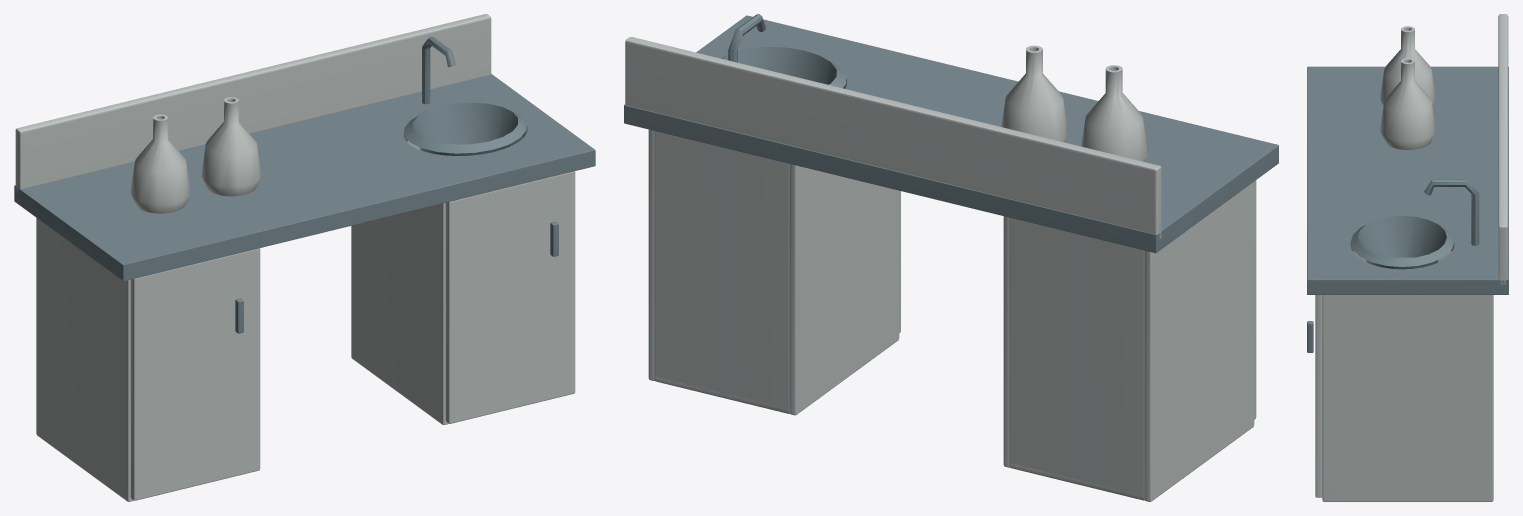
Rendered from lab-bench.glb.
The picture shows the model from 3 angles, left to right: view 1: azimuth 30°, elevation 25°; view 2: azimuth 150°, elevation 25°; view 3: azimuth 270°, elevation 25°; orthographic projection. The views are drawn at different scales.
Visible parts, largest first — view 1: laboratory_top, lab_drawer_unit_door_0.001, lab_drawer_unit_door_0, rear_splash, lab_drawer_unit_side, lab_drawer_unit_side.002, lab_sink_bowl, laboratory_flask, laboratory_flask.001, lab_tap; view 2: rear_splash, lab_drawer_unit_rear.001, lab_drawer_unit_rear, laboratory_top, lab_drawer_unit_side, lab_drawer_unit_side.002, laboratory_flask, laboratory_flask.001, lab_sink_bowl, lab_drawer_unit_side.003, lab_drawer_unit_side.001, lab_drawer_unit_door_0; view 3: lab_drawer_unit_side.003, laboratory_top, lab_sink_bowl, laboratory_flask.001, rear_splash, laboratory_flask, lab_drawer_unit_door_0.001, lab_tap.
Boxes of the visible parts, x1,y1,x2,y2 form: laboratory_top: (14,74,595,281); lab_drawer_unit_door_0.001: (445,171,575,423); lab_drawer_unit_door_0: (130,248,260,500); rear_splash: (15,14,491,193); lab_drawer_unit_side: (36,218,132,501); lab_drawer_unit_side.002: (351,203,448,424); lab_sink_bowl: (404,102,526,155); laboratory_flask: (130,114,190,213); laboratory_flask.001: (201,97,261,196); lab_tap: (422,36,455,104); rear_splash: (625,37,1161,238); lab_drawer_unit_rear.001: (654,131,789,413); lab_drawer_unit_rear: (1009,218,1144,500); laboratory_top: (624,15,1278,253); lab_drawer_unit_side: (1144,182,1254,501); lab_drawer_unit_side.002: (789,164,899,415); laboratory_flask: (1081,65,1147,161); laboratory_flask.001: (1001,45,1068,142); lab_sink_bowl: (721,46,846,88); lab_drawer_unit_side.003: (648,129,654,380); lab_drawer_unit_side.001: (1003,216,1009,467); lab_drawer_unit_door_0: (1254,180,1256,419); lab_drawer_unit_side.003: (1322,295,1493,501); laboratory_top: (1307,66,1508,294); lab_sink_bowl: (1350,215,1454,269); laboratory_flask.001: (1380,58,1435,149); rear_splash: (1498,14,1508,285); laboratory_flask: (1380,26,1435,105); lab_drawer_unit_door_0.001: (1315,295,1322,497); lab_tap: (1424,179,1479,245).
Bounding box in the file's own units: 1.8 × 1.21 × 0.72.
